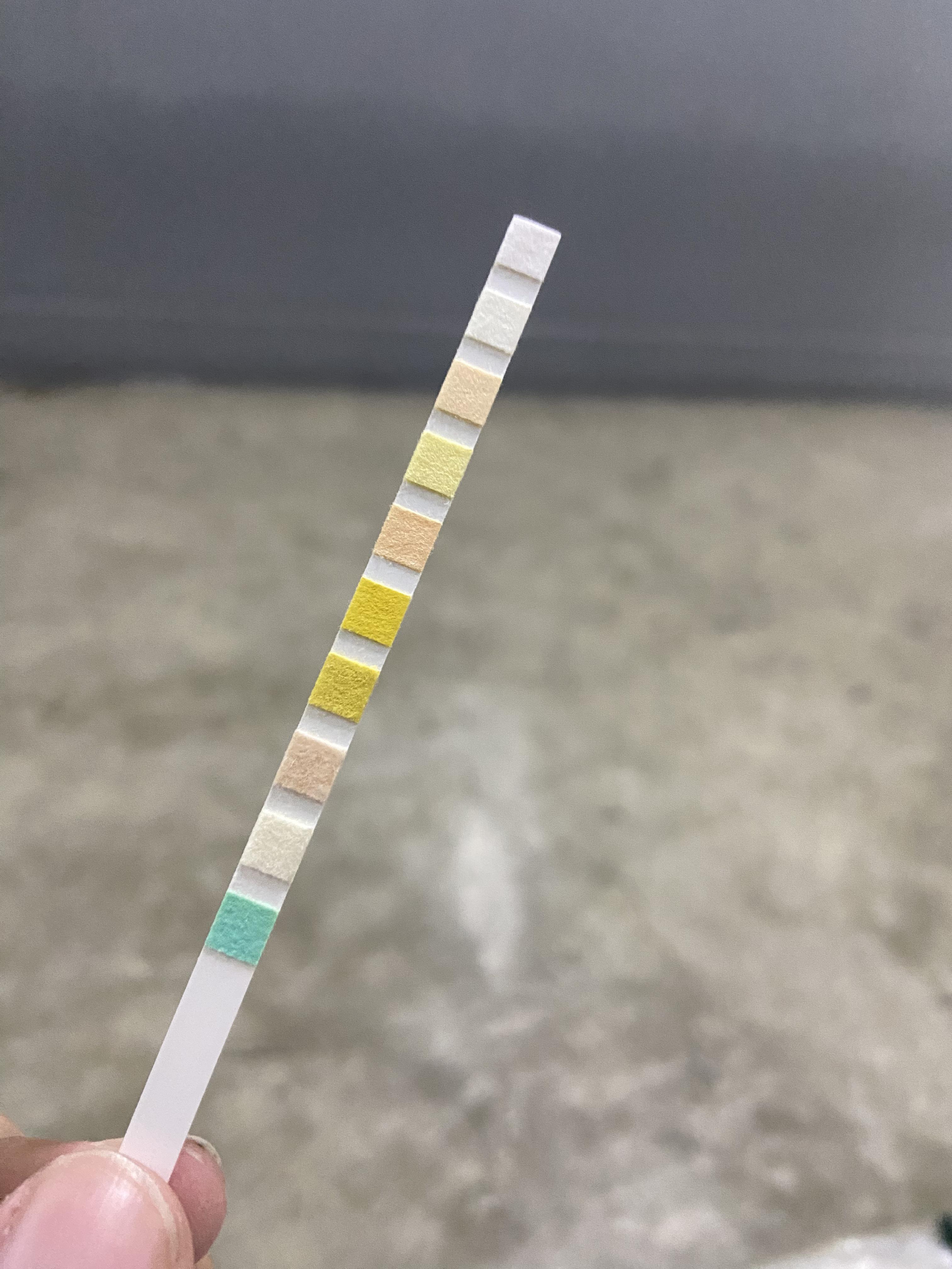Bilirubin: (255, 825, 298, 866)
Blood: (355, 592, 395, 631)
Glucose: (219, 909, 263, 950)
Ketone: (290, 746, 330, 787)
Leukocytes: (508, 229, 547, 269)
Nitrite: (480, 302, 519, 342)
Protein: (418, 446, 458, 485)
SpGravity: (321, 667, 364, 709)
Urobilinogen: (448, 372, 488, 411)
pH: (387, 517, 427, 556)
strip: (119, 215, 562, 1173)
